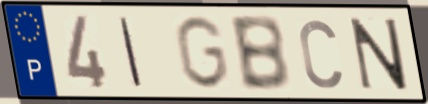4: (64, 12, 110, 90)
B: (226, 13, 293, 93)
C: (296, 16, 344, 91)
G: (172, 14, 231, 92)
I: (117, 15, 145, 89)
N: (348, 16, 411, 92)
